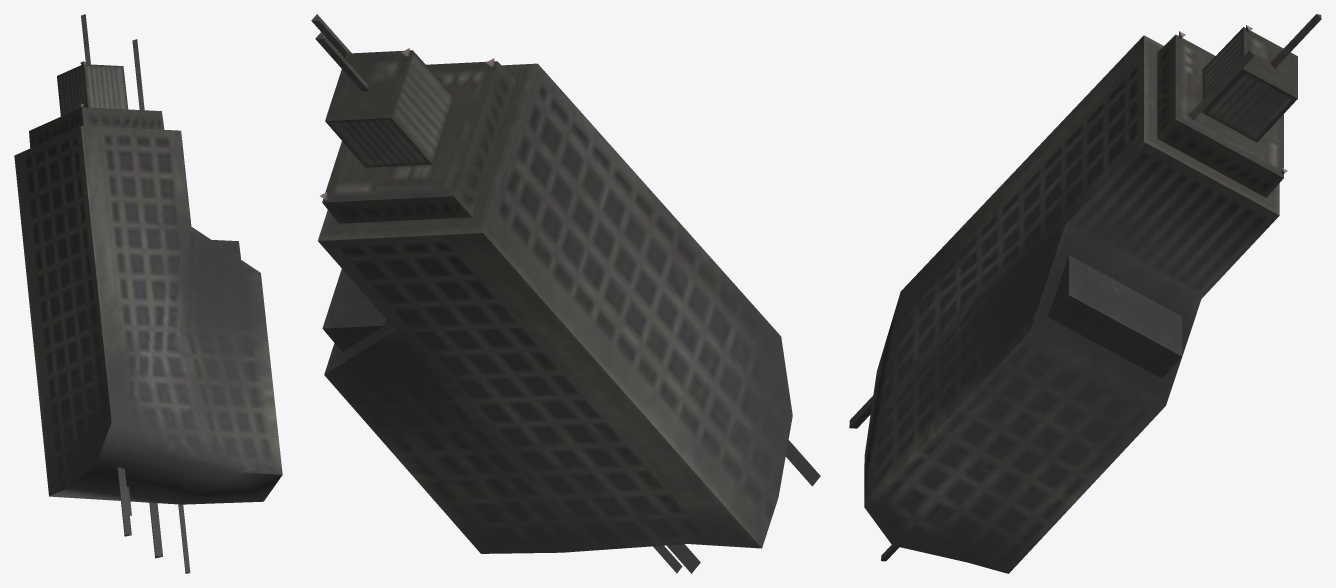
Rendered from skyBuildingAAB_pos_grp (12).fbx.
The picture shows the model from 3 angles, left to right: view 1: azimuth 30°, elevation 25°; view 2: azimuth 150°, elevation 25°; view 3: azimuth 270°, elevation 25°; orthographic projection. The views are drawn at different scales.
Visible parts, largest first — view 1: skyBuildingAAB_geo; view 2: skyBuildingAAB_geo; view 3: skyBuildingAAB_geo.
Boxes of the visible parts, left/top/right/bottom form: skyBuildingAAB_geo: left=14, top=14, right=282, bottom=573; skyBuildingAAB_geo: left=311, top=14, right=820, bottom=573; skyBuildingAAB_geo: left=849, top=14, right=1321, bottom=573.
Size of the model in its own units: 6.2 by 11.47 by 8.38.
